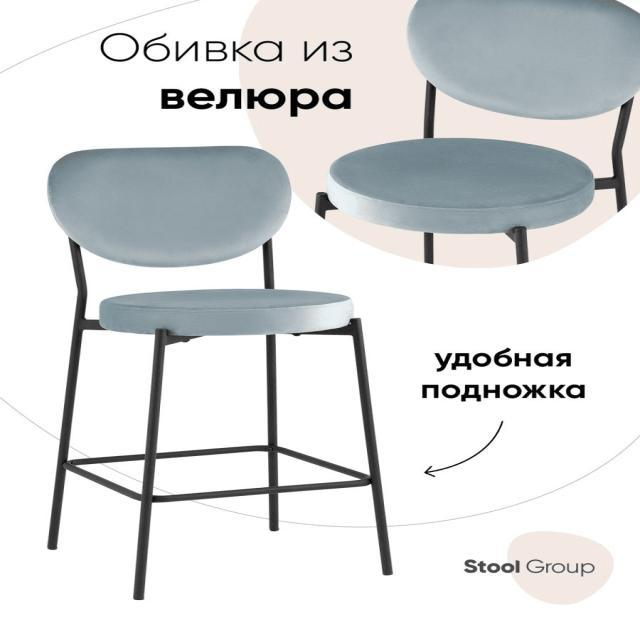chair: (30, 140, 398, 602), (317, 0, 639, 233), (38, 132, 364, 336)
